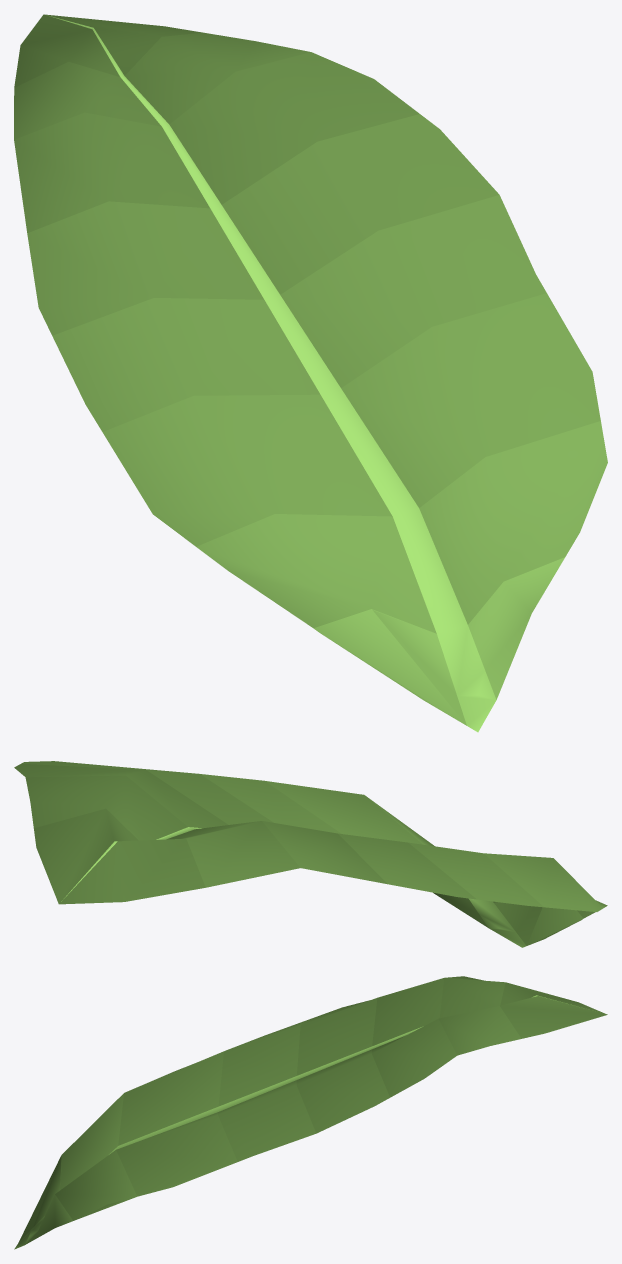
File: leaf.fbx
The picture shows the model from 3 angles, top to bottom: view 1: azimuth 30°, elevation 25°; view 2: azimuth 150°, elevation 25°; view 3: azimuth 270°, elevation 25°; orthographic projection. The views are drawn at different scales.
Visible parts, largest first — view 1: polySurface1; view 2: polySurface1; view 3: polySurface1.
Boxes of the visible parts, bbox=[...] form: polySurface1: bbox=[14, 14, 607, 732]; polySurface1: bbox=[14, 761, 607, 947]; polySurface1: bbox=[14, 976, 607, 1249].
Size of the model in its own units: 0.2192 by 0.1861 by 0.3816.
